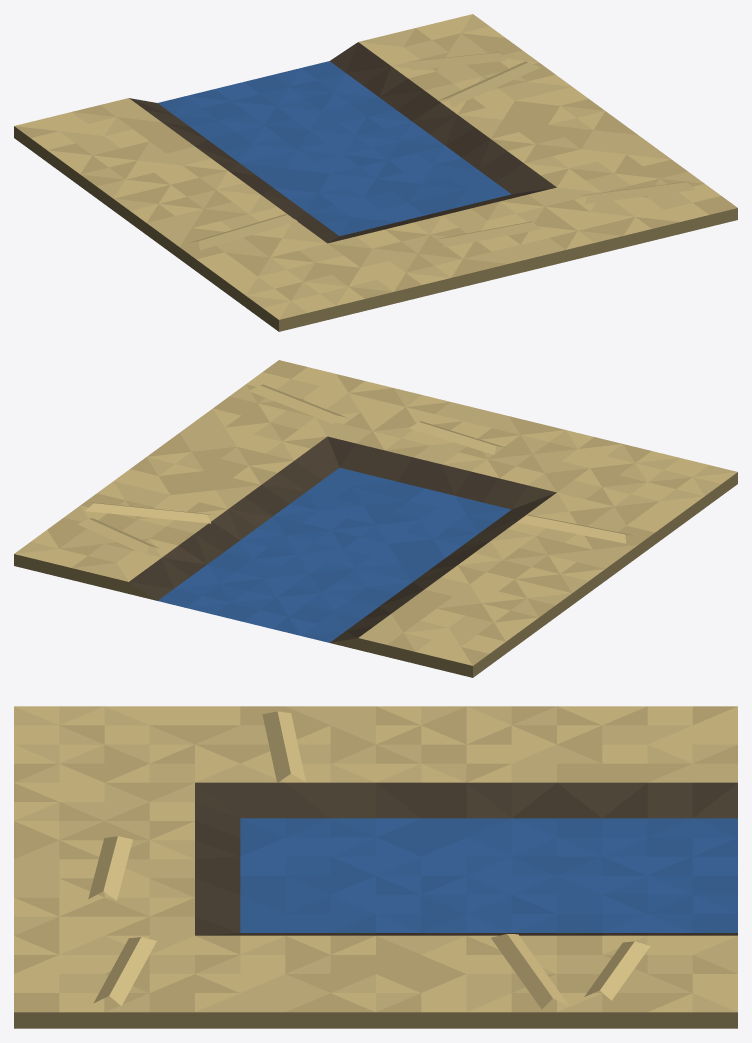
The model's file is river_end_sand.obj.
3 views of the same model, one above another, from view 1: azimuth 30°, elevation 25°; view 2: azimuth 150°, elevation 25°; view 3: azimuth 270°, elevation 25° (orthographic). The views are drawn at different scales.
Size of the model in its own units: 4 by 0.135 by 4.
